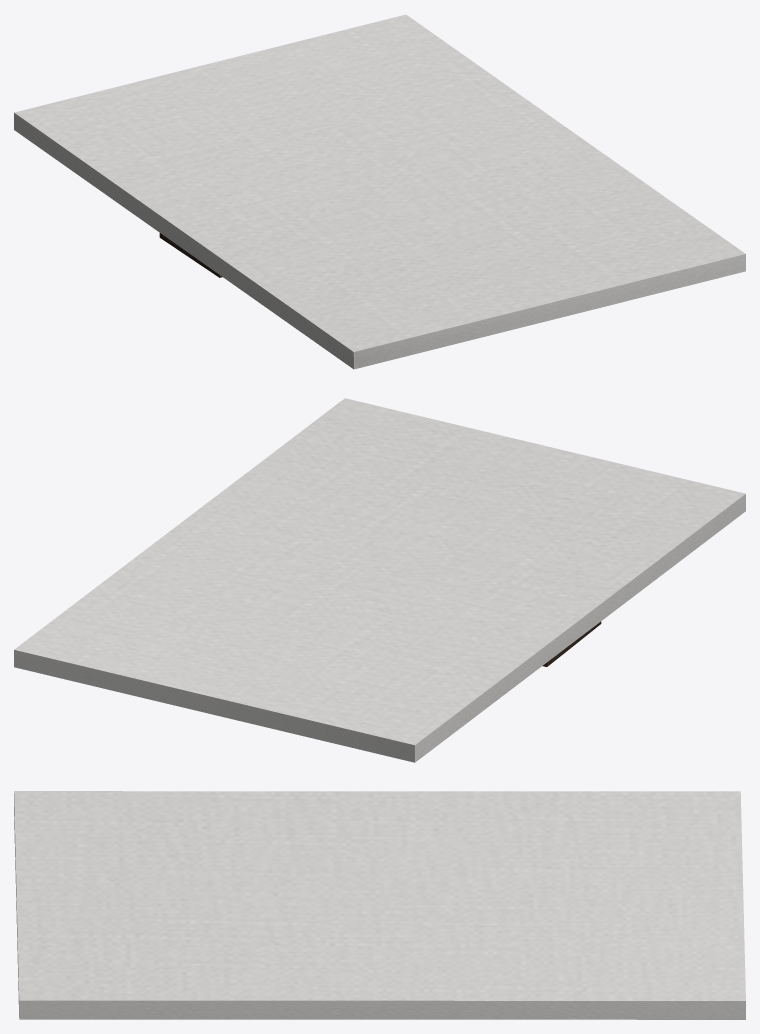
File: entradaGlesia.obj
3 views of the same model, one above another, from view 1: azimuth 30°, elevation 25°; view 2: azimuth 150°, elevation 25°; view 3: azimuth 270°, elevation 25° (orthographic). The views are drawn at different scales.
Parts seen in each view (by area): view 1: group12 pasted__group3 pasted__pasted__group pasted__pasted__pas; view 2: group12 pasted__group3 pasted__pasted__group pasted__pasted__pas; view 3: group12 pasted__group3 pasted__pasted__group pasted__pasted__pas.
Part boxes in pixels (left/top/right/bottom): group12 pasted__group3 pasted__pasted__group pasted__pasted__pas: left=14, top=14, right=745, bottom=369; group12 pasted__group3 pasted__pasted__group pasted__pasted__pas: left=14, top=398, right=745, bottom=762; group12 pasted__group3 pasted__pasted__group pasted__pasted__pas: left=14, top=791, right=745, bottom=1019.
Bounding box in the file's own units: 867 × 65.8 × 1260.
2 materials, 2 textured.
